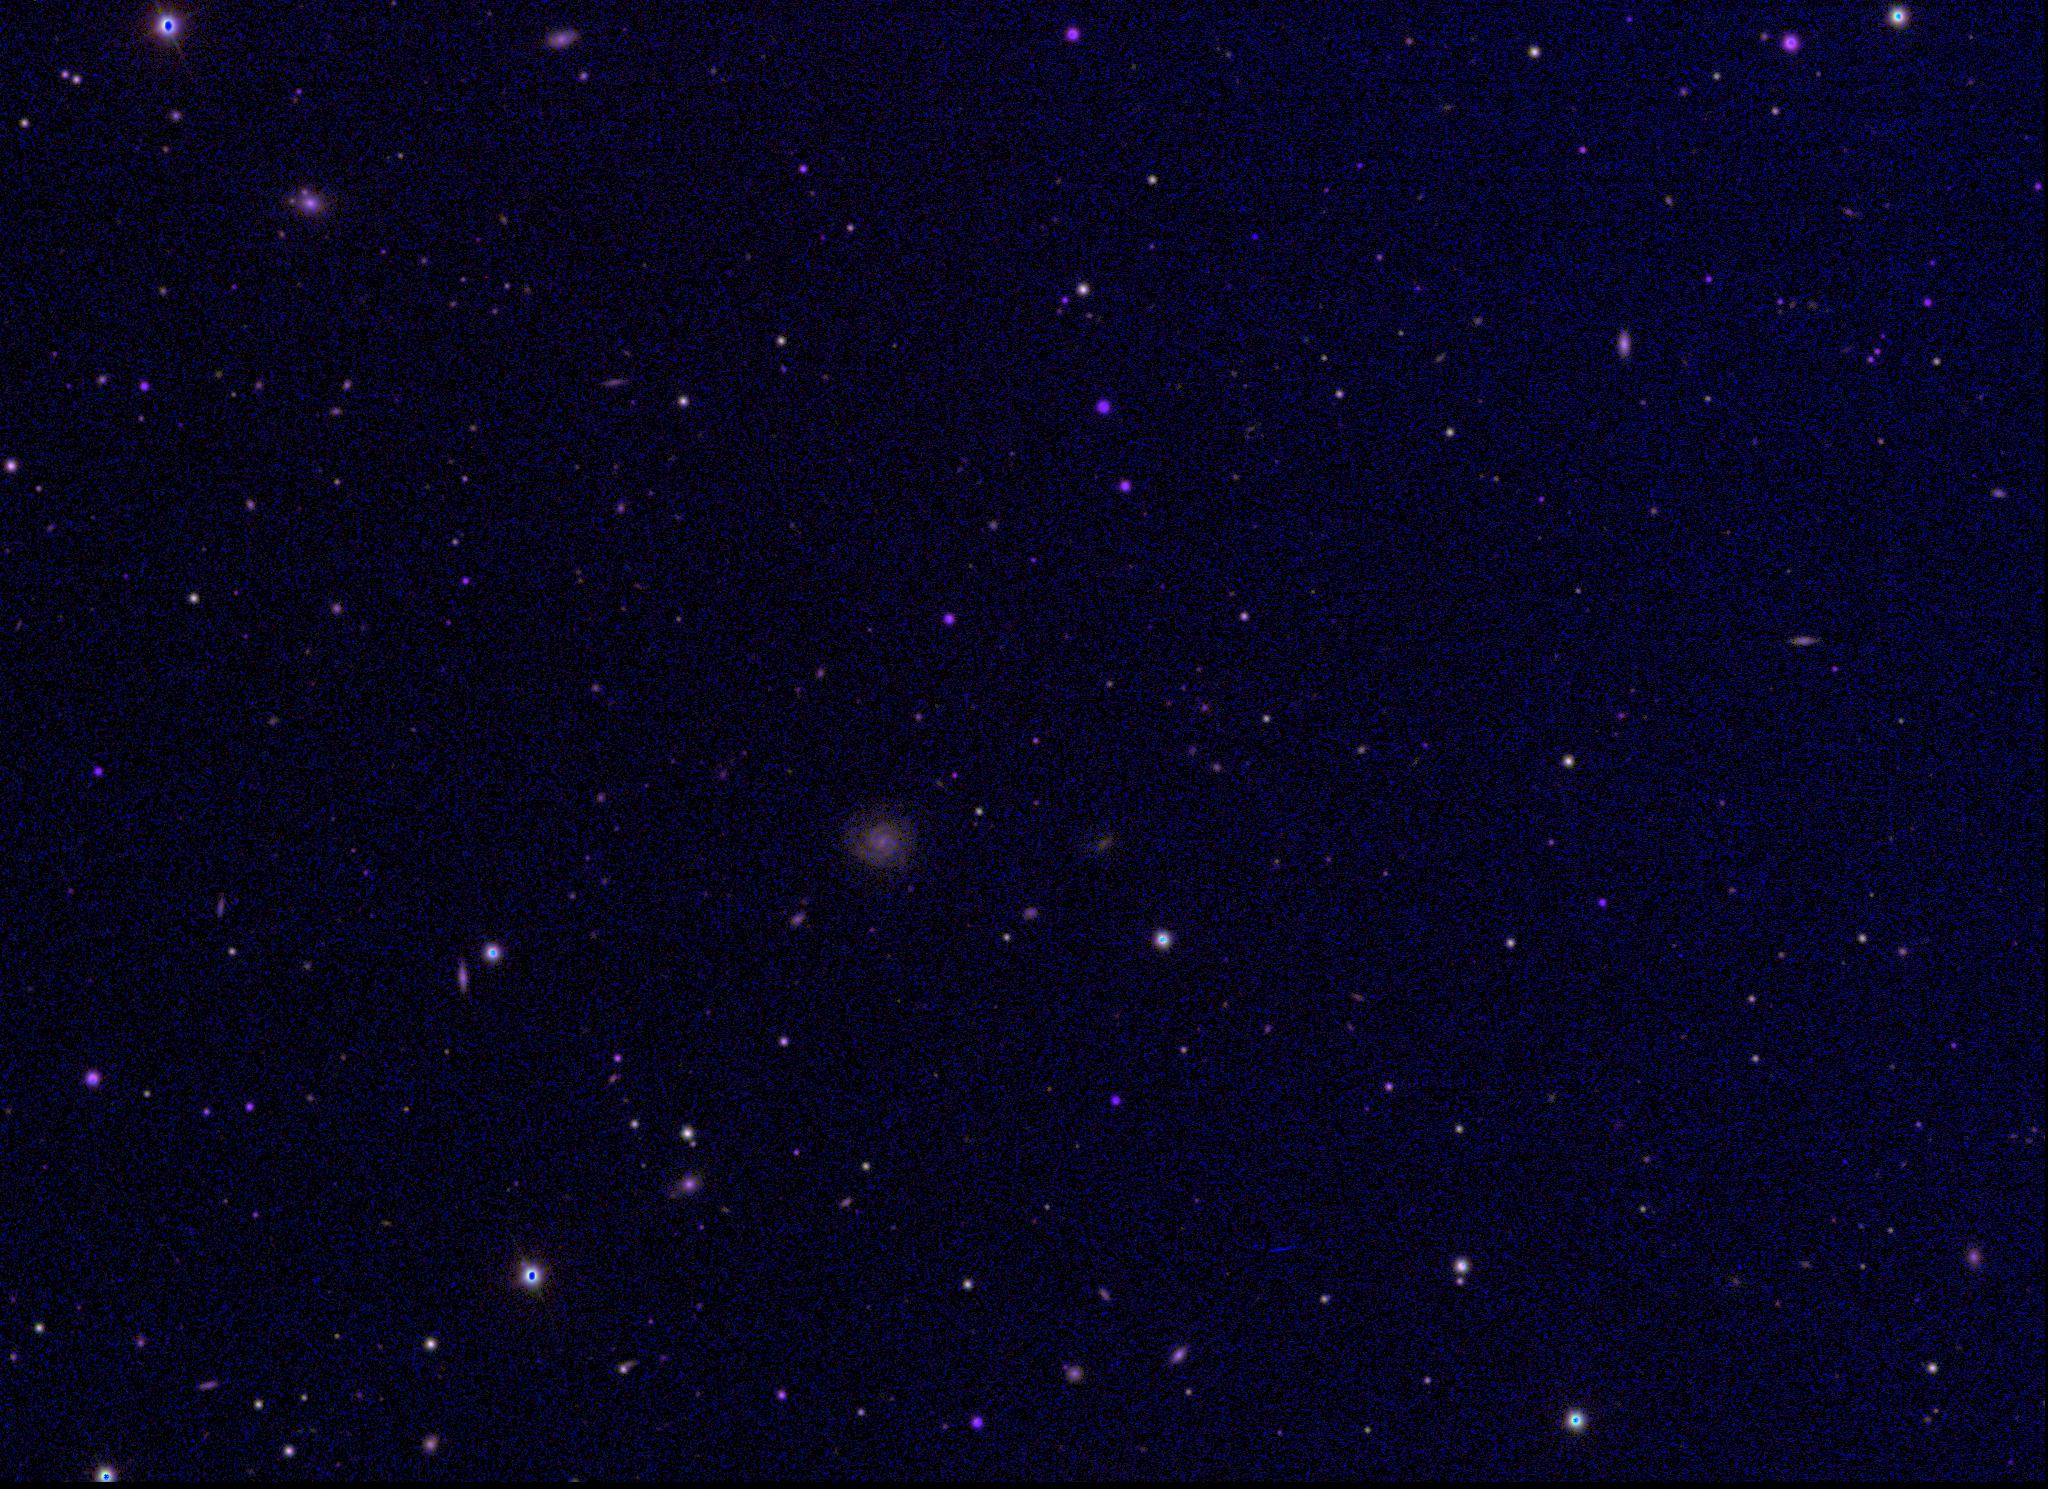L: (1247, 229, 1261, 243)
